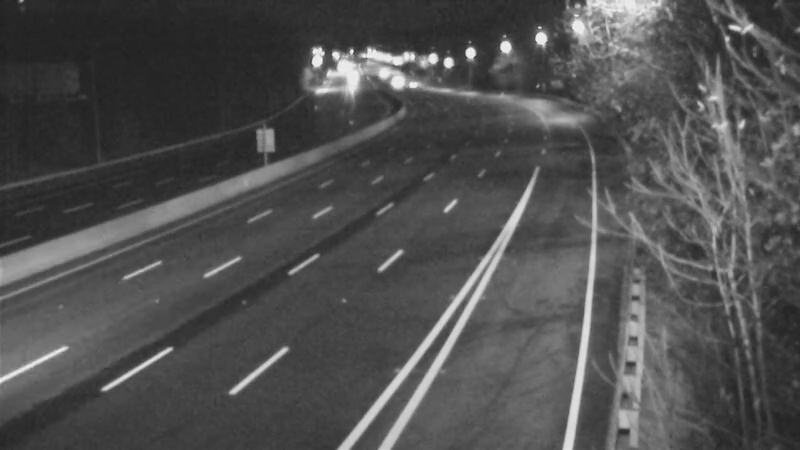vehicle: (371, 51, 421, 101), (384, 60, 434, 110)
